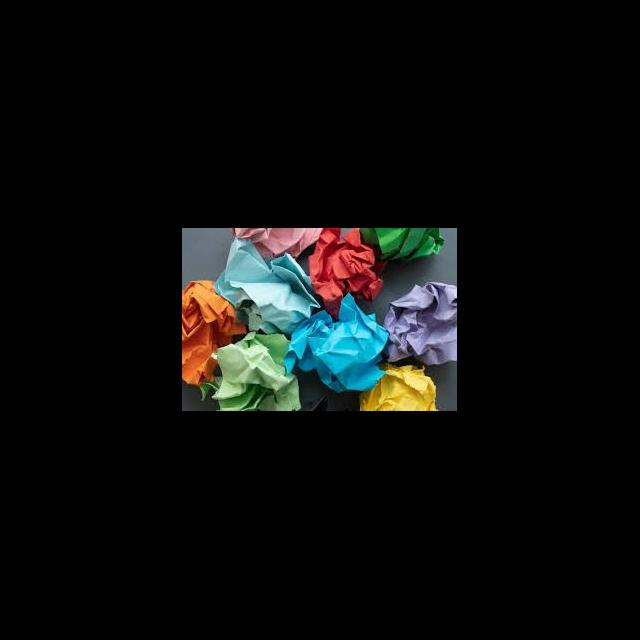paper: (182, 228, 458, 412), (286, 290, 394, 393), (212, 235, 322, 335), (198, 332, 305, 412), (182, 276, 256, 388), (306, 228, 385, 317), (383, 282, 457, 364), (358, 361, 440, 412), (348, 229, 448, 269), (228, 229, 331, 261)
